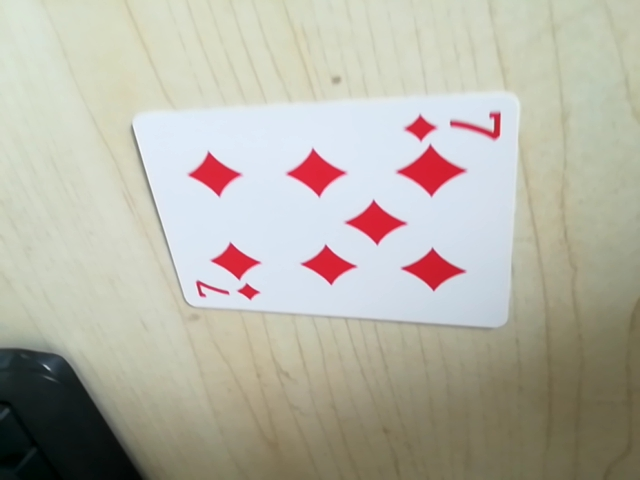fk 7: (401, 99, 507, 147), (188, 278, 266, 309)
